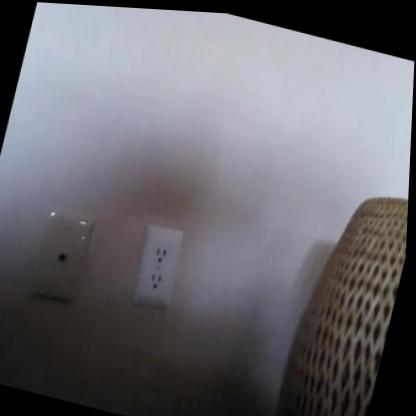OUTLET: (129, 222, 187, 310)
